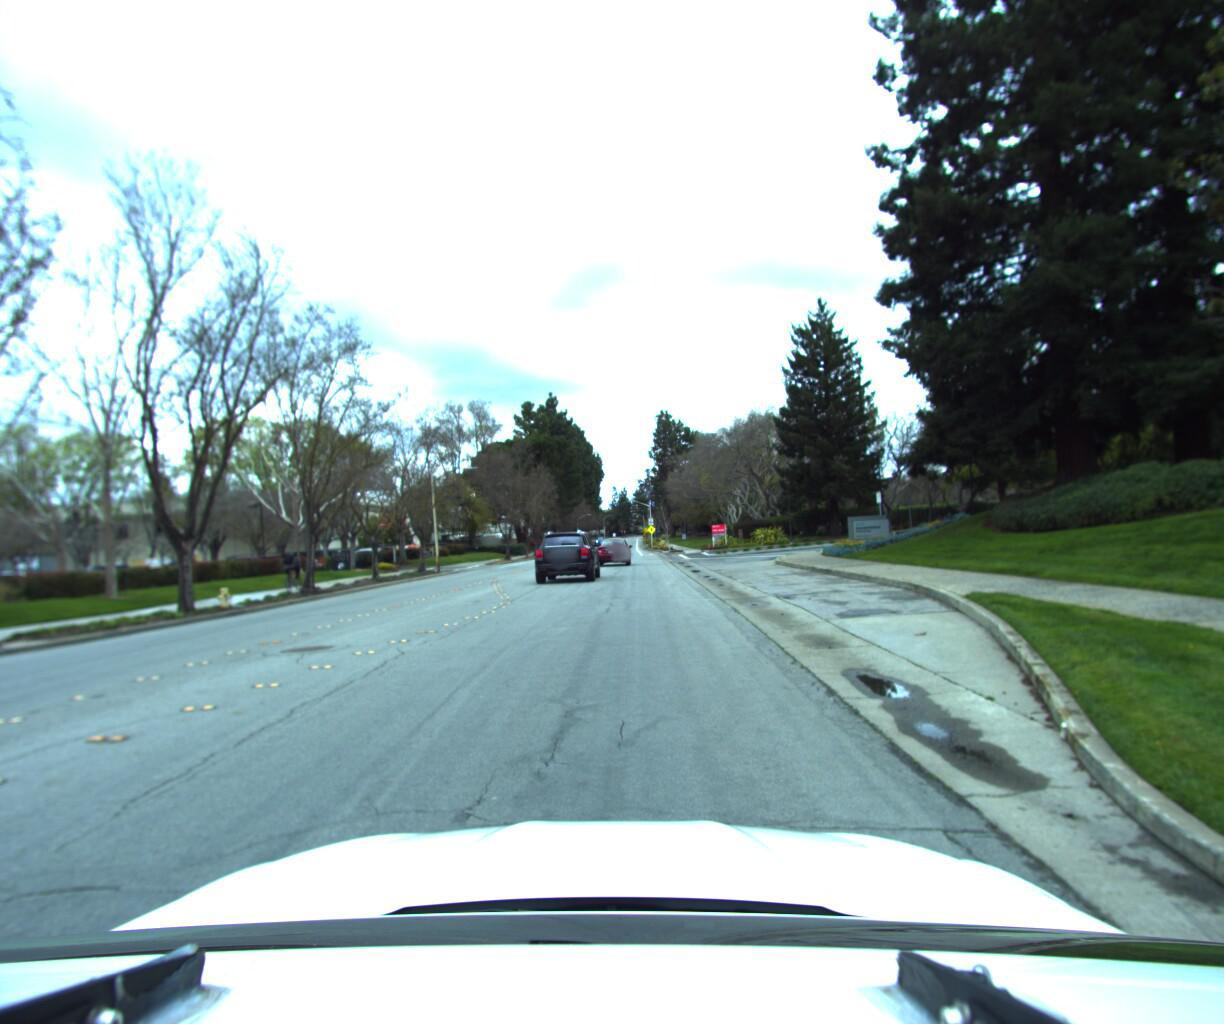bicycle: (276, 548, 311, 591)
car: (531, 523, 603, 579), (593, 534, 632, 565)
